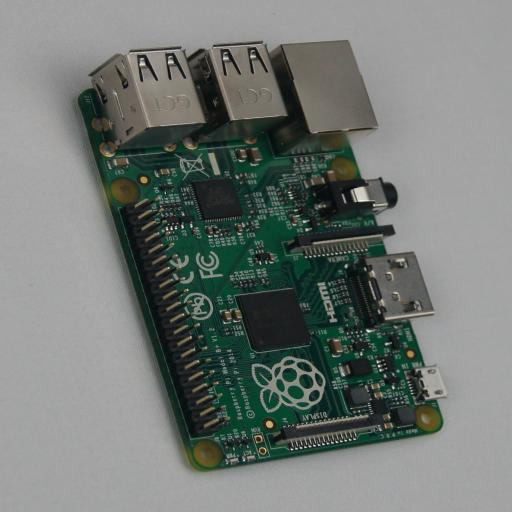Raspberry Pi 1 B-: (72, 40, 446, 472)
